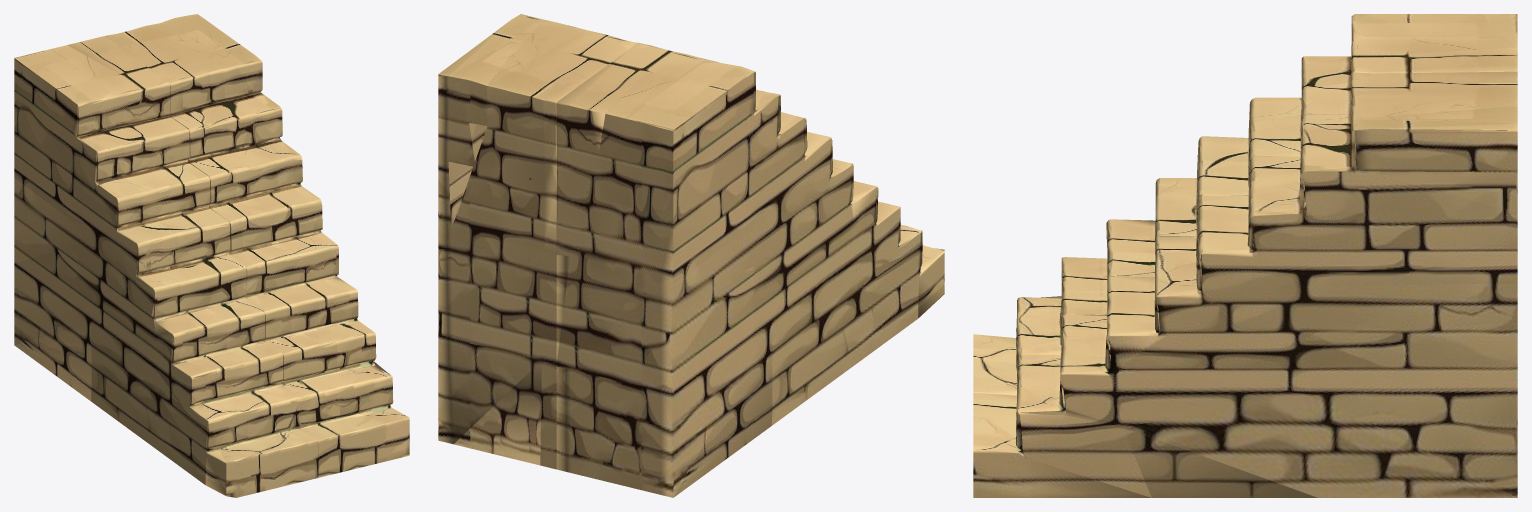
The model's file is stairs.glb.
The picture shows the model from 3 angles, left to right: view 1: azimuth 30°, elevation 25°; view 2: azimuth 150°, elevation 25°; view 3: azimuth 270°, elevation 25°; orthographic projection. The views are drawn at different scales.
Bounding box in the file's own units: 2 × 3 × 4.
Materials: 1 (1 with a texture image).
